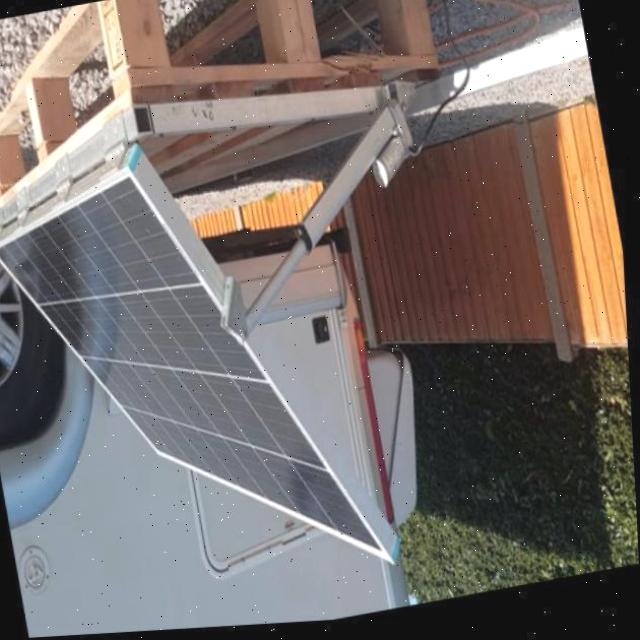Normal Solar Panel: (0, 138, 392, 622)
